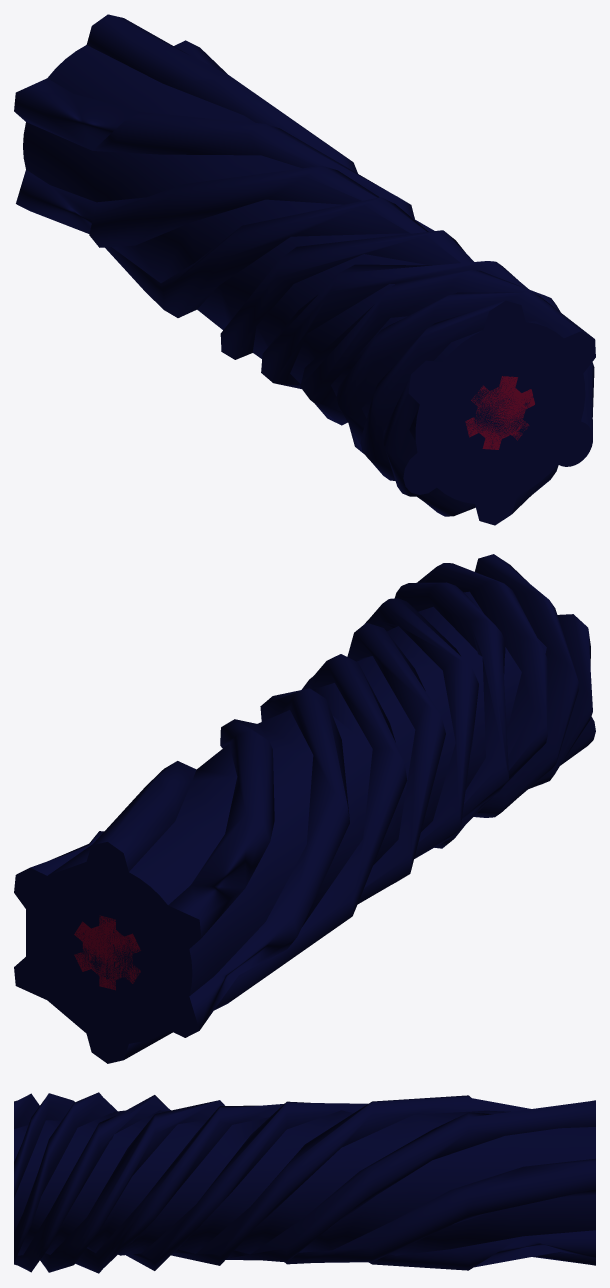
The model's file is TestDeathray.fbx.
The picture shows the model from 3 angles, top to bottom: view 1: azimuth 30°, elevation 25°; view 2: azimuth 150°, elevation 25°; view 3: azimuth 270°, elevation 25°; orthographic projection. The views are drawn at different scales.
Visible parts, largest first — view 1: Objeto_3, Objeto_1; view 2: Objeto_3, Objeto_1; view 3: Objeto_3.
Part boxes in pixels (x1,y1,x2,y2): Objeto_3: (14, 14, 595, 525); Objeto_1: (465, 376, 534, 449); Objeto_3: (14, 554, 595, 1063); Objeto_1: (74, 916, 140, 989); Objeto_3: (14, 1092, 595, 1273).
Bounding box in the file's own units: 12.52 × 12.52 × 40.
